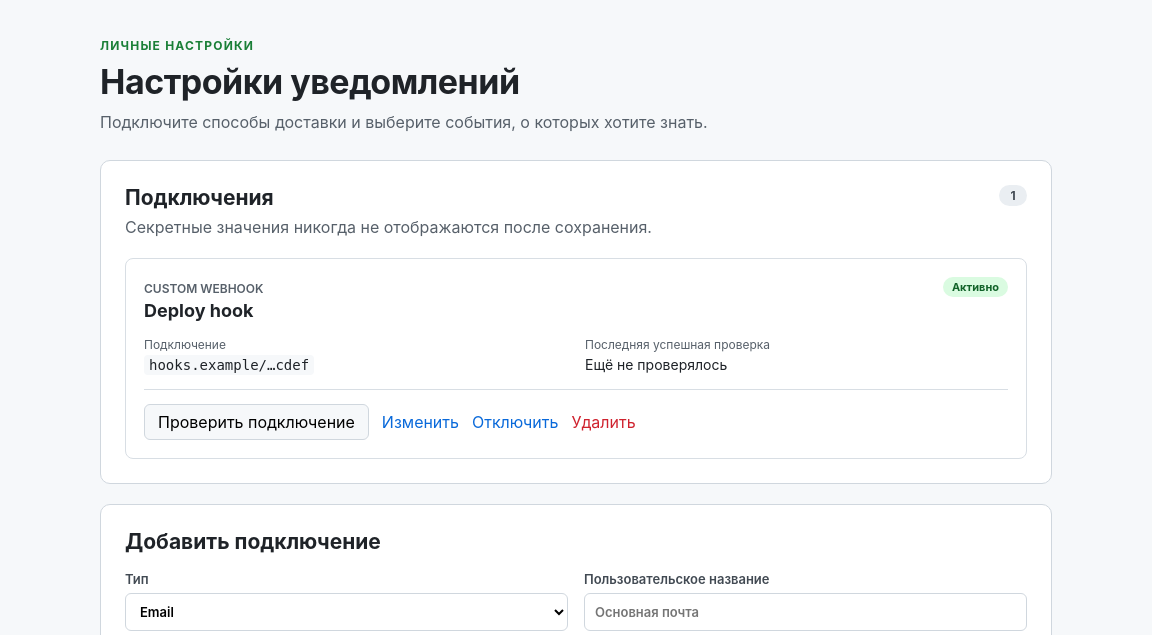
notification settings › creates a signed webhook and clears the secret field
The width and height of the screenshot is (1152, 635).
Expected: the heading "Deploy hook" is shown, top-left (144, 300), bottom-right (264, 321)
Select "Custom webhook" in the dropdown labelled "Тип" at (346, 612), box top-left (125, 593), bottom-right (568, 631)
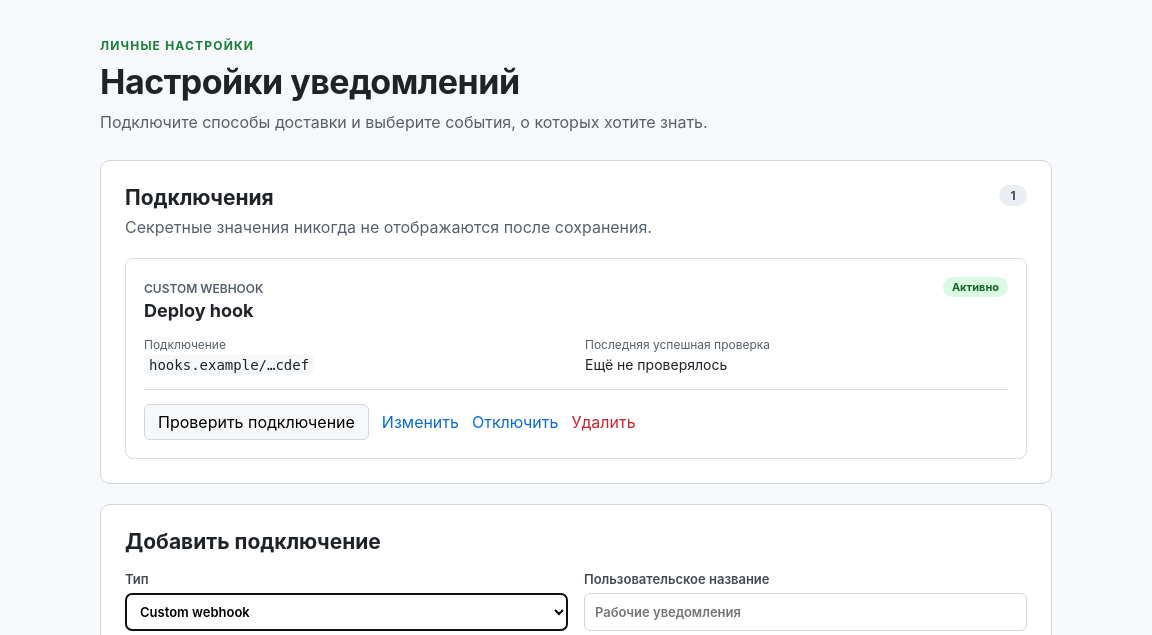
Type "CI" into the field labelled "Пользовательское название" at (806, 612), box top-left (584, 593), bottom-right (1027, 631)
(page scrolled)
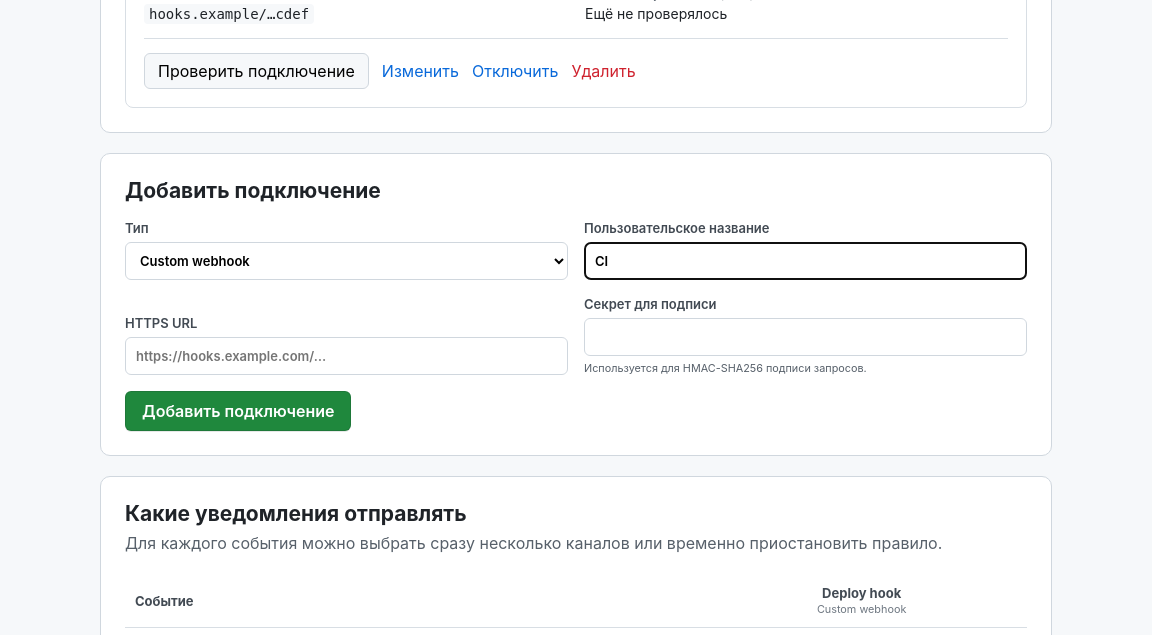
Type "https://hooks.example/abc" into the field labelled "HTTPS URL" at (346, 356), box top-left (125, 337), bottom-right (568, 375)
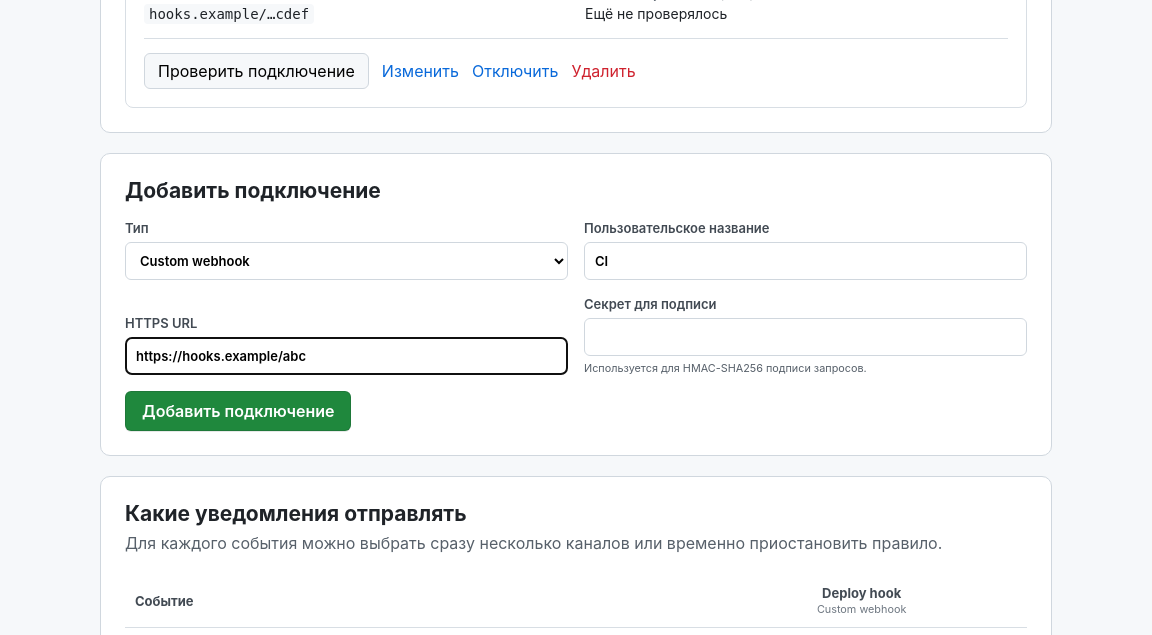
Type "top-secret" into the password field labelled "Секрет для подписи" at (806, 337), box top-left (584, 318), bottom-right (1027, 356)
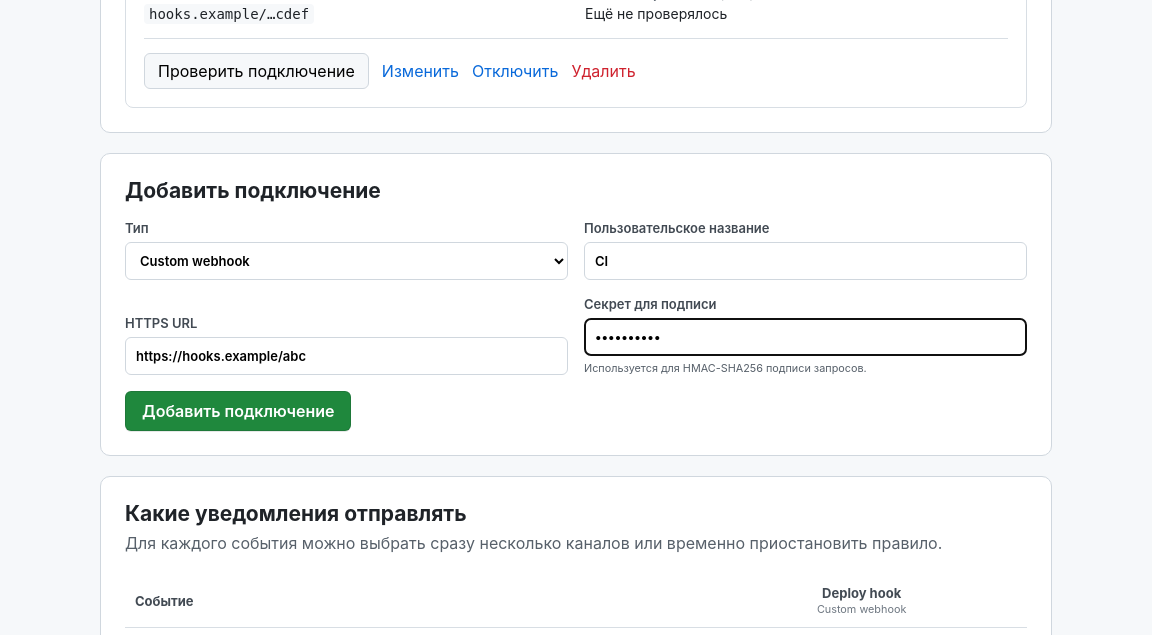
Click the button "Добавить подключение" at (238, 411), box top-left (125, 391), bottom-right (352, 431)
(page scrolled)
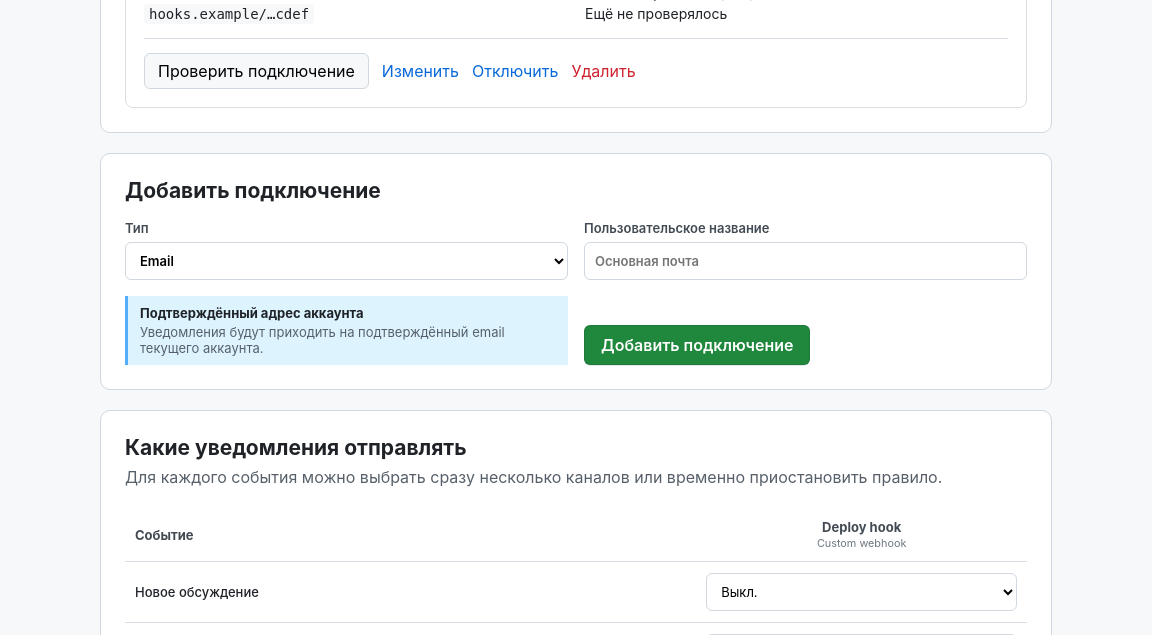
Now the label labelled "Секрет для подписи" is gone
